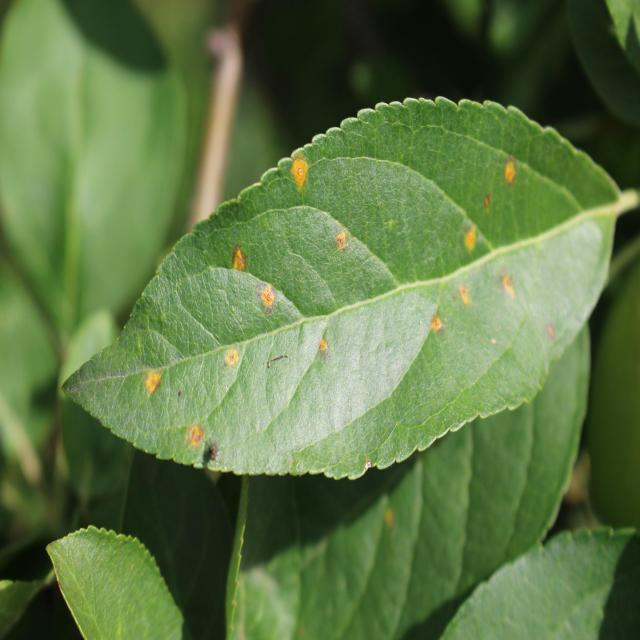rust: (60, 95, 622, 480)
